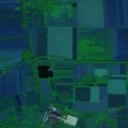alloviz: (36, 64, 54, 78)
